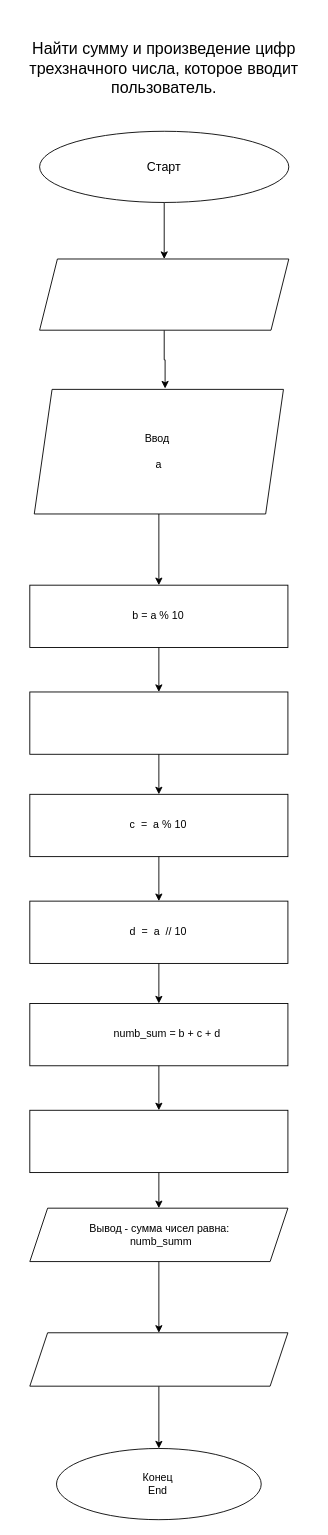
Image size: 328x1535. Some labels were removed from this diagram. Here are the shapes that lost their labels. From the top down, the centre of each, then its label:
At point 164,294: "Вывод введите 3-х значнеое число".
At point 158,722: "a = a // 10".
At point 158,1141: "numb_mult = b * c * d".
At point 158,1359: "Вывод - произведение чисел равно: numb_mult".
